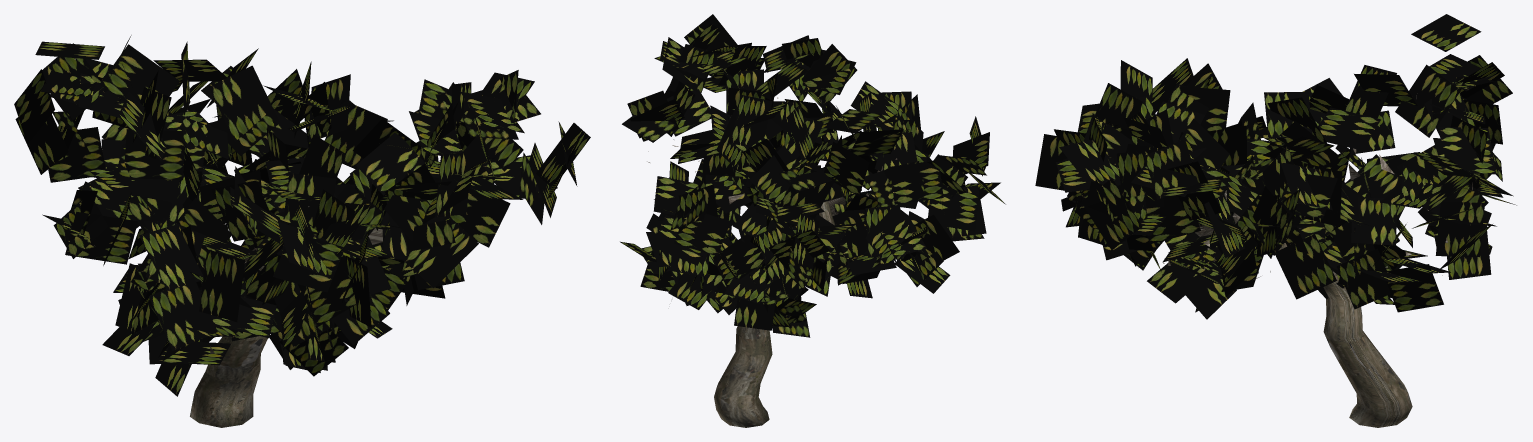
Rendered from tree-asymmetric-05-lod1.glb.
The picture shows the model from 3 angles, left to right: view 1: azimuth 30°, elevation 25°; view 2: azimuth 150°, elevation 25°; view 3: azimuth 270°, elevation 25°; orthographic projection. The views are drawn at different scales.
Parts seen in each view (by area): view 1: tree-asymmetric-05_MATERIAL_BATCH; view 2: tree-asymmetric-05_MATERIAL_BATCH; view 3: tree-asymmetric-05_MATERIAL_BATCH.
Boxes of the visible parts, left/top/right/bottom form: tree-asymmetric-05_MATERIAL_BATCH: left=14, top=35, right=590, bottom=427; tree-asymmetric-05_MATERIAL_BATCH: left=620, top=14, right=1005, bottom=427; tree-asymmetric-05_MATERIAL_BATCH: left=1035, top=14, right=1516, bottom=427.
Bounding box in the file's own units: 12.63 × 11 × 13.45.
3 materials, 3 textured.
